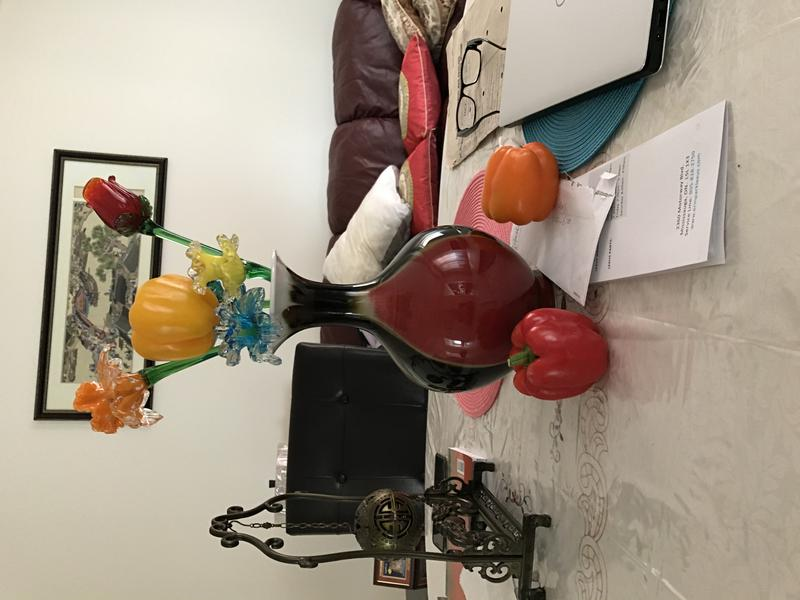orange_pepper: (479, 140, 568, 231)
red_pepper: (504, 302, 617, 408)
yellow_pepper: (124, 271, 224, 369)
